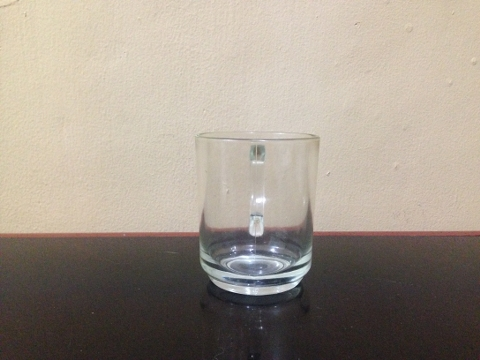tempat minum: (195, 131, 321, 295)
